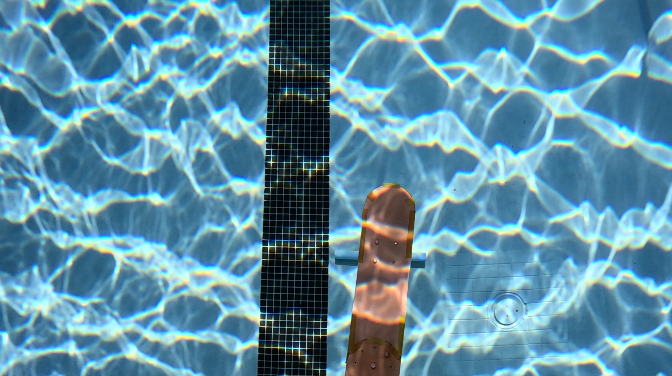pathmarker: (345, 184, 415, 375)
